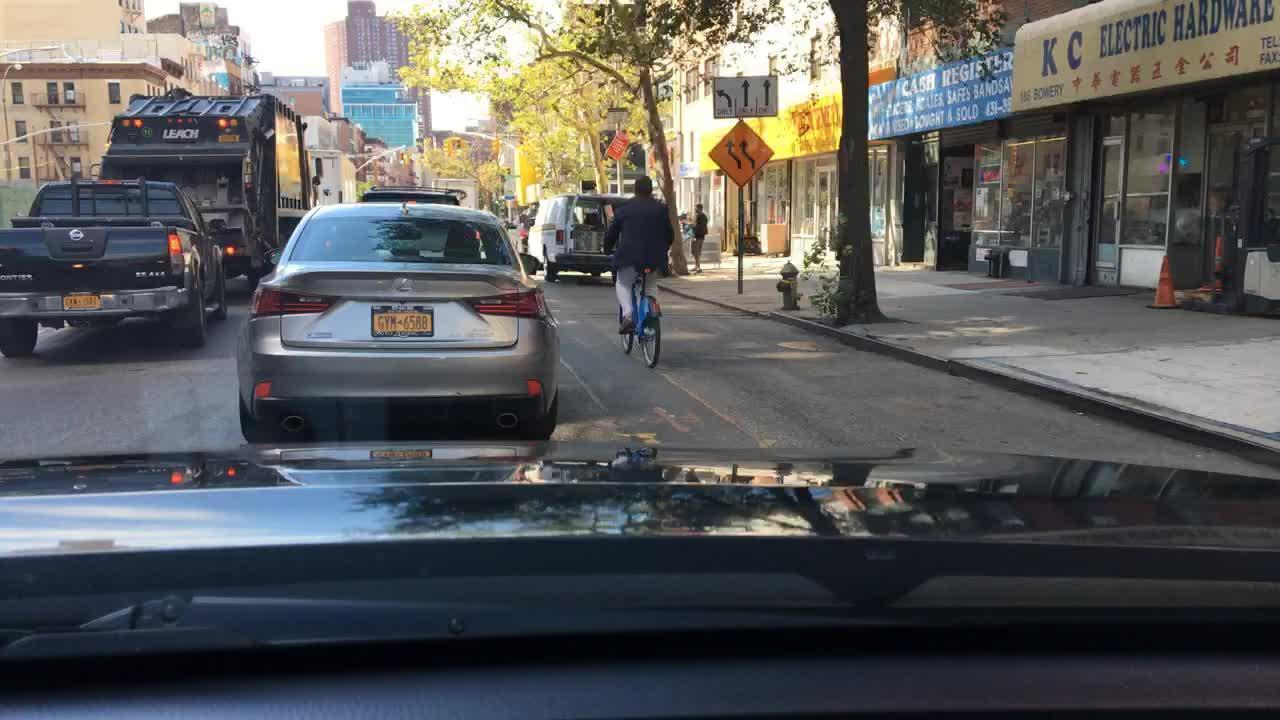Nissan: (67, 228, 88, 243)
lexus: (392, 274, 415, 298)
